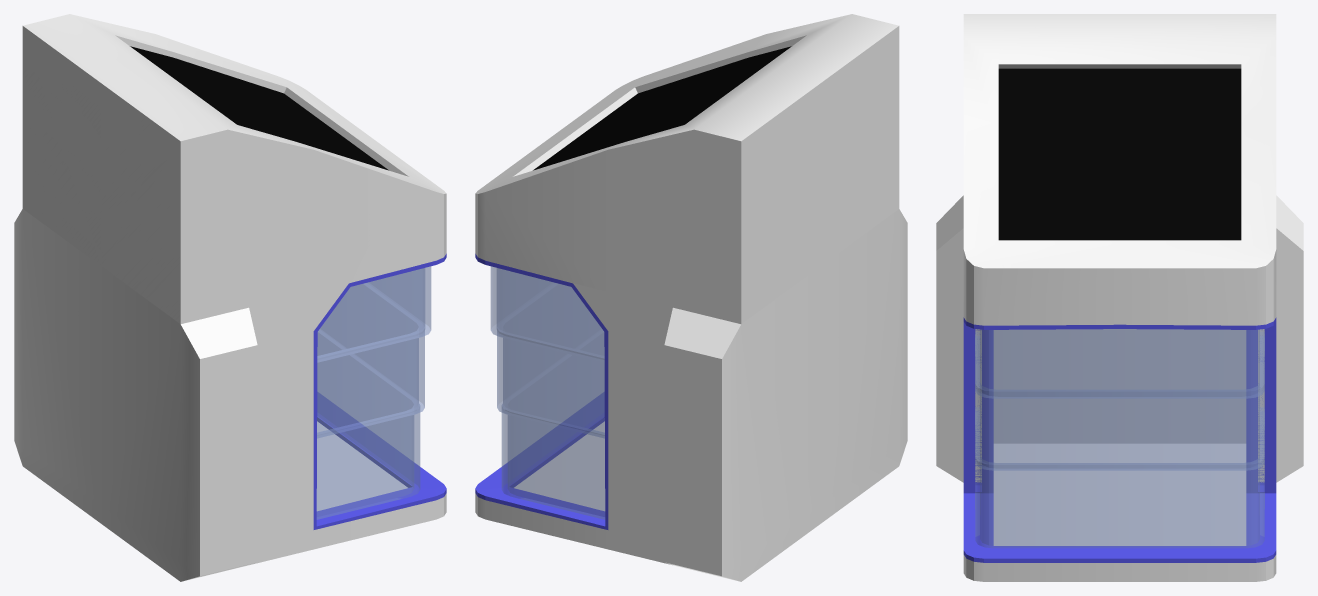
File: analyzer@.fbx
3 views of the same model, side by side, from view 1: azimuth 30°, elevation 25°; view 2: azimuth 150°, elevation 25°; view 3: azimuth 270°, elevation 25° (orthographic).
Parts seen in each view (by area): view 1: Cube.001, Cube.005, Cube.004, Cube.003, Cube.002; view 2: Cube.001, Cube.005, Cube.004, Cube.003, Cube.002; view 3: Cube.001, Cube.005, Cube.004, Cube.003, Cube.002.
Part boxes in pixels (left/top/right/bottom): Cube.001: left=14, top=14, right=446, bottom=581; Cube.005: left=316, top=330, right=420, bottom=519; Cube.004: left=317, top=283, right=424, bottom=438; Cube.003: left=317, top=266, right=431, bottom=362; Cube.002: left=313, top=253, right=446, bottom=529; Cube.001: left=475, top=14, right=907, bottom=581; Cube.005: left=501, top=330, right=605, bottom=519; Cube.004: left=497, top=283, right=604, bottom=438; Cube.003: left=490, top=266, right=604, bottom=362; Cube.002: left=475, top=253, right=608, bottom=529; Cube.001: left=936, top=14, right=1303, bottom=581; Cube.005: left=975, top=408, right=1264, bottom=547; Cube.004: left=975, top=332, right=1264, bottom=470; Cube.003: left=975, top=329, right=1264, bottom=398; Cube.002: left=963, top=317, right=1276, bottom=562.
Size of the model in its own units: 40.01 by 61.59 by 47.04.
